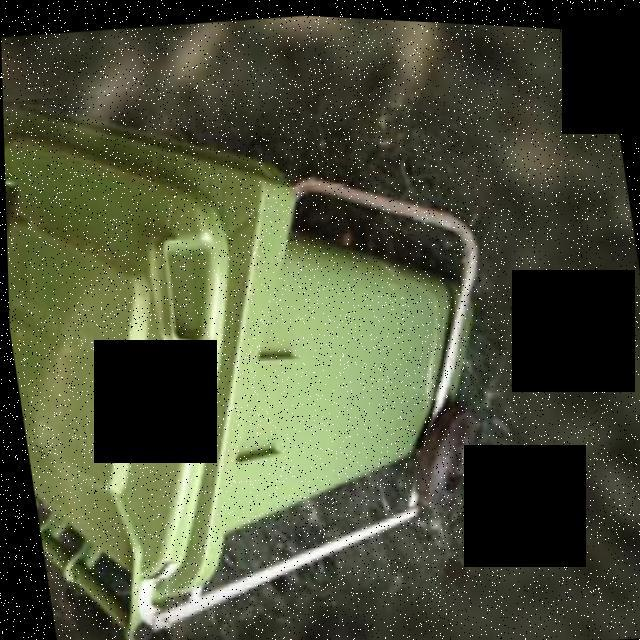bin: (1, 24, 559, 640)
